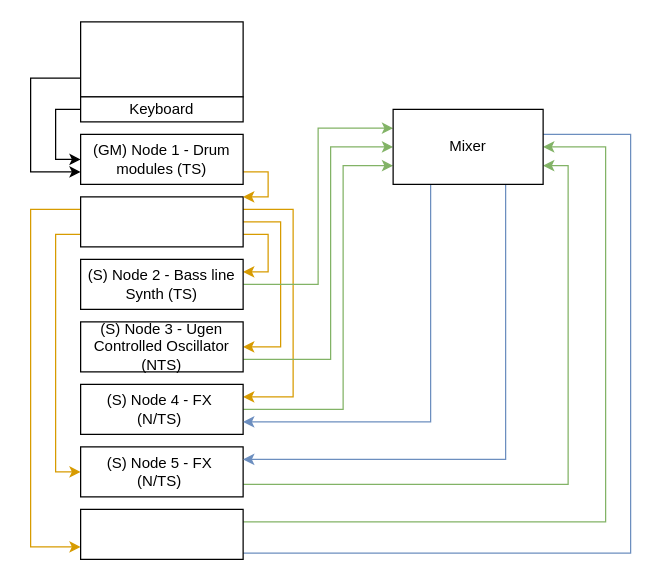
The diagram is 663 pixels wide and 585 high, and some of its shapes have lost their labels. Here are the shapes that lost their labels. From the top down, the centre of each, then its label:
the point at 161,59: Monitor
the point at 161,221: Switch with PTP
the point at 161,533: (S) Node 6 - Ugen Controlled Oscillator (NTS)
